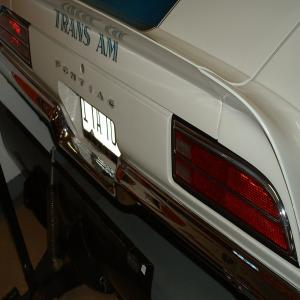Vehicle-registration-plate: (80, 94, 118, 157)
